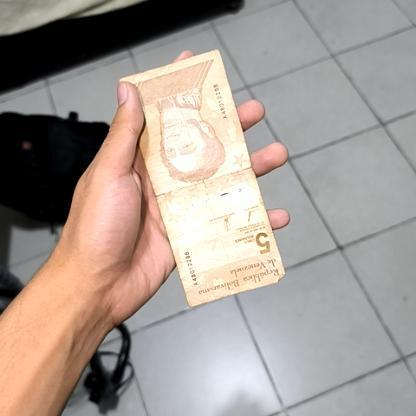five-front-vef: (120, 48, 284, 307)
